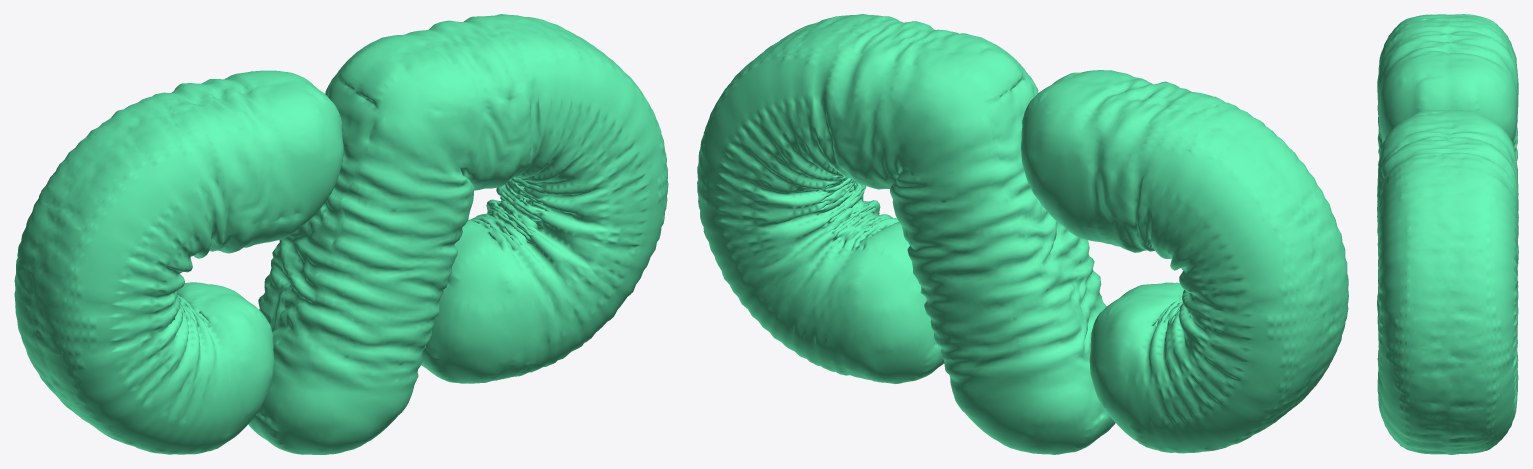
The model's file is Balloon.gltf.
The picture shows the model from 3 angles, left to right: view 1: azimuth 30°, elevation 25°; view 2: azimuth 150°, elevation 25°; view 3: azimuth 270°, elevation 25°; orthographic projection. The views are drawn at different scales.
Parts seen in each view (by area): view 1: CP_Logo_Balloon_Flattened_01; view 2: CP_Logo_Balloon_Flattened_01; view 3: CP_Logo_Balloon_Flattened_01.
Boxes of the visible parts, box(x1,y1,x2,y2) form: CP_Logo_Balloon_Flattened_01: box(14, 14, 668, 454); CP_Logo_Balloon_Flattened_01: box(697, 14, 1348, 454); CP_Logo_Balloon_Flattened_01: box(1377, 14, 1518, 454).
Bounding box in the file's own units: 1.96 × 1.13 × 0.4565.
